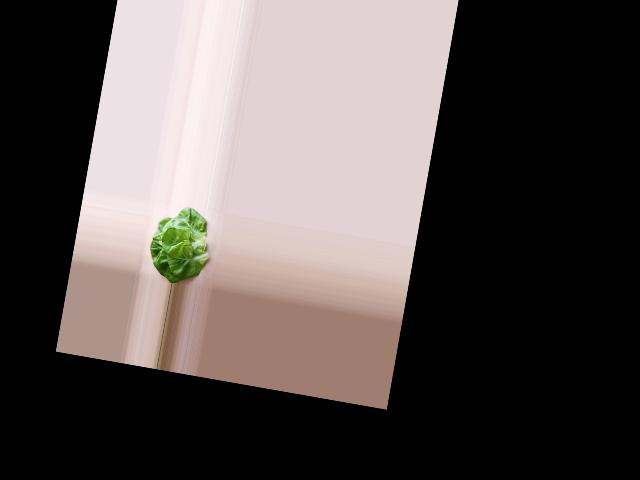lettuce: (145, 204, 214, 286)
